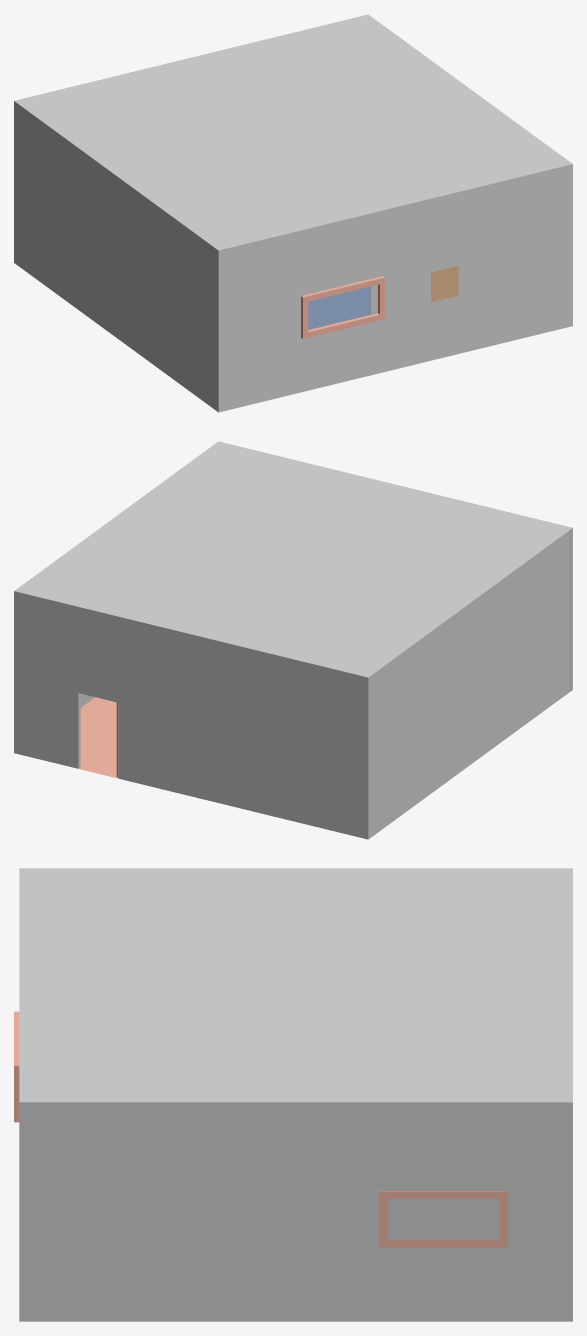
Rendered from Break Room Complete.fbx.
3 views of the same model, one above another, from view 1: azimuth 30°, elevation 25°; view 2: azimuth 150°, elevation 25°; view 3: azimuth 270°, elevation 25° (orthographic). The views are drawn at different scales.
Parts seen in each view (by area): view 1: Cube.001, Cube.013, Cube.014, Cube.015; view 2: Cube.001, Plane; view 3: Cube.001, Cube.019, Cube.013.
Boxes of the visible parts, x1=… form: Cube.001: x1=14, y1=14, x2=572, y2=412; Cube.013: x1=301, y1=276, x2=385, y2=338; Cube.014: x1=308, y1=287, x2=370, y2=329; Cube.015: x1=431, y1=266, x2=458, y2=301; Cube.001: x1=14, y1=441, x2=572, y2=839; Plane: x1=78, y1=696, x2=563, y2=778; Cube.001: x1=19, y1=868, x2=572, y2=1321; Cube.019: x1=379, y1=1191, x2=507, y2=1247; Cube.013: x1=14, y1=1011, x2=19, y2=1122.
Bounding box in the file's own units: 1782 × 778 × 1798.
